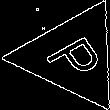P_NE: (37, 27, 107, 85)
